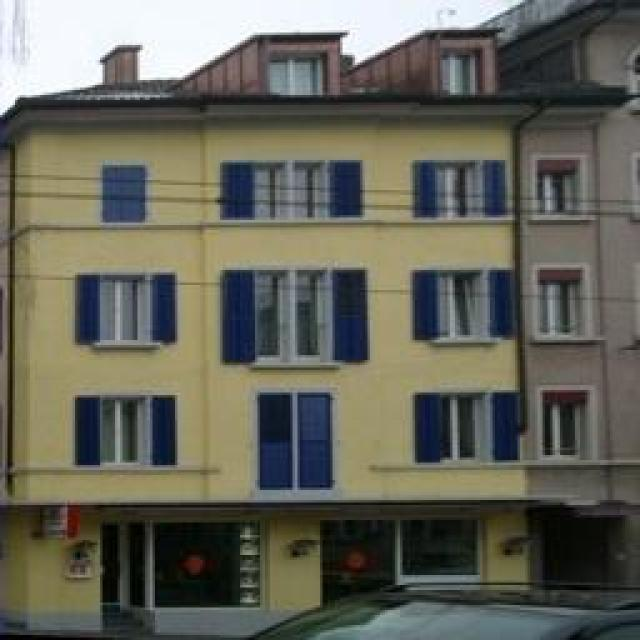Window: (155, 520, 260, 605), (400, 520, 478, 578), (257, 392, 295, 490), (102, 280, 150, 340), (545, 392, 585, 456), (102, 400, 142, 462), (440, 272, 478, 336), (297, 272, 325, 358), (270, 52, 322, 96), (542, 282, 578, 336), (260, 272, 282, 358), (447, 395, 475, 460), (442, 165, 478, 215), (442, 52, 478, 96), (255, 165, 283, 220), (295, 162, 320, 218), (540, 175, 570, 213)
